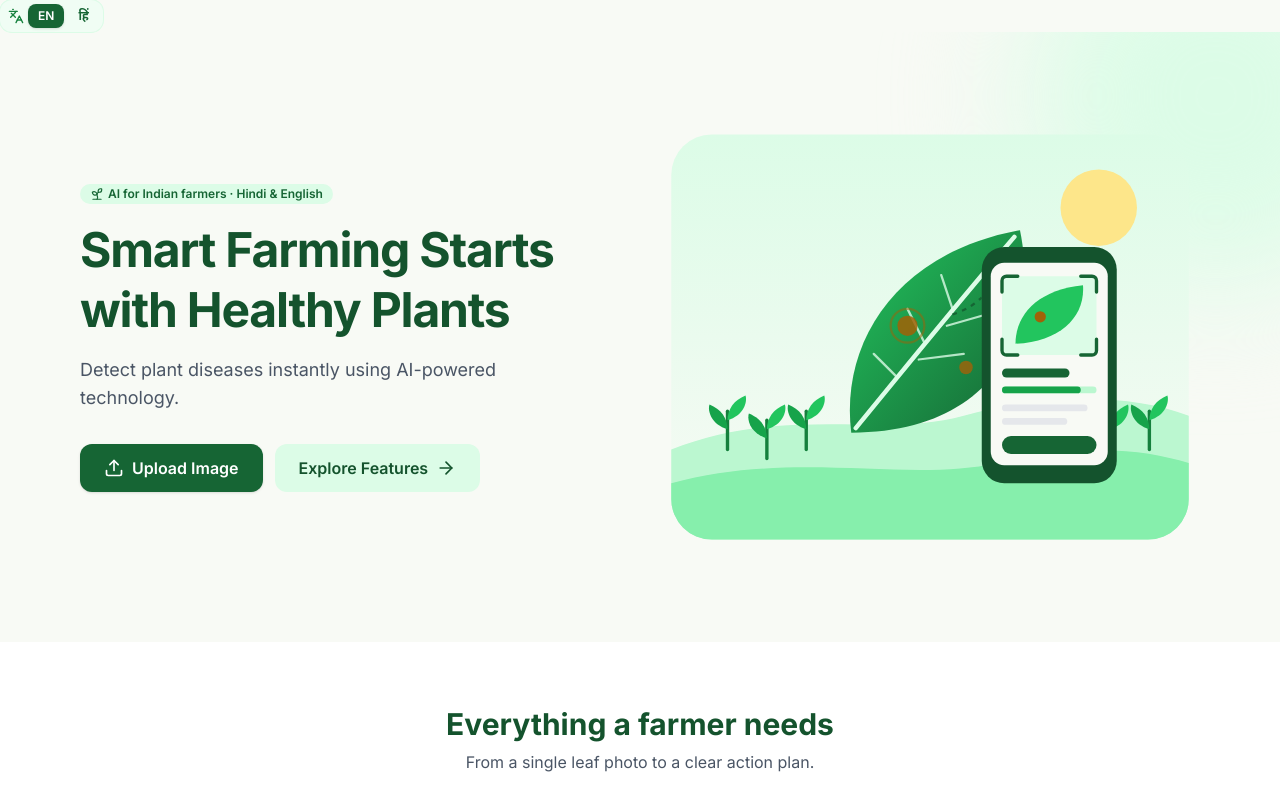
Test: LanguageSwitcher › switches the landing page between English and Hindi
Check: the heading "Smart Farming Starts with Healthy Plants" is shown, box [80,220,620,340]
Click the button "हिं" at (84, 16), box [68,4,99,28]
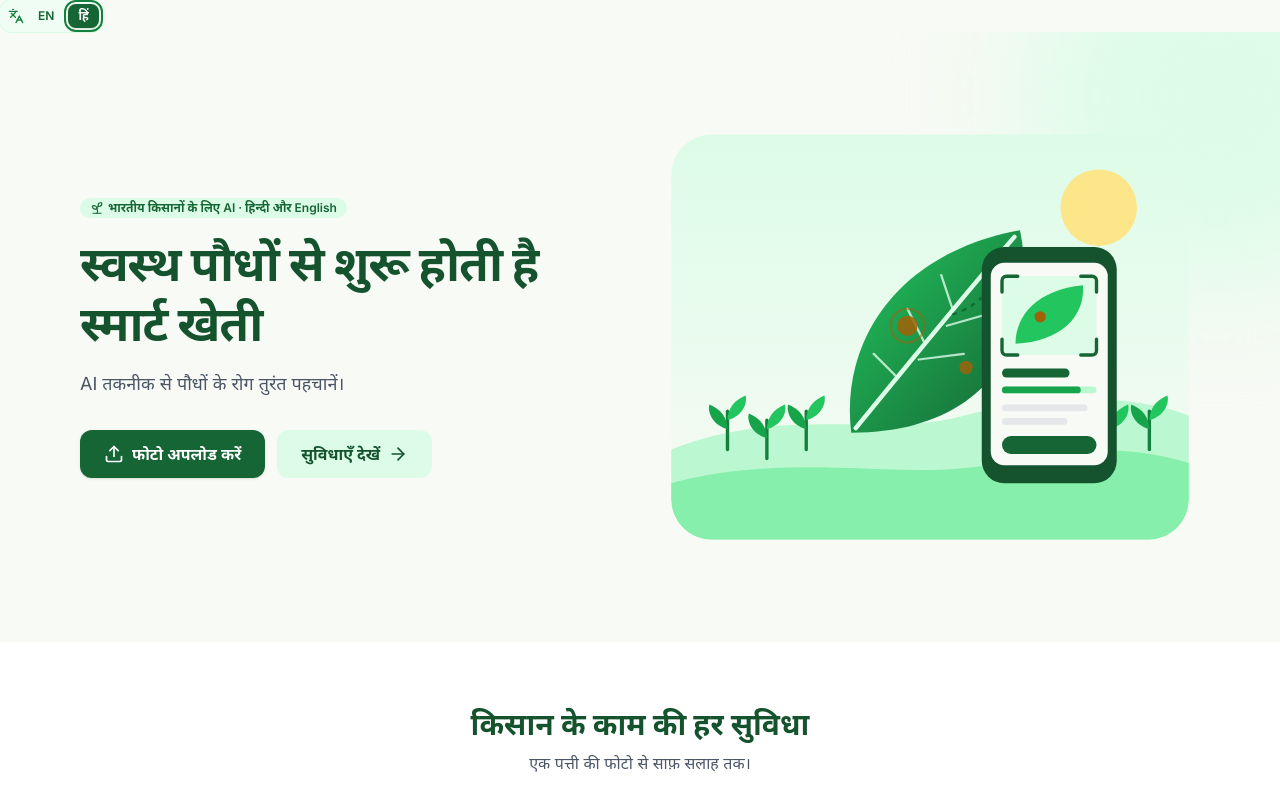
Check: the heading "स्वस्थ पौधों से शुरू होती है स्मार्ट खेती" is shown, box [80,234,538,353]
